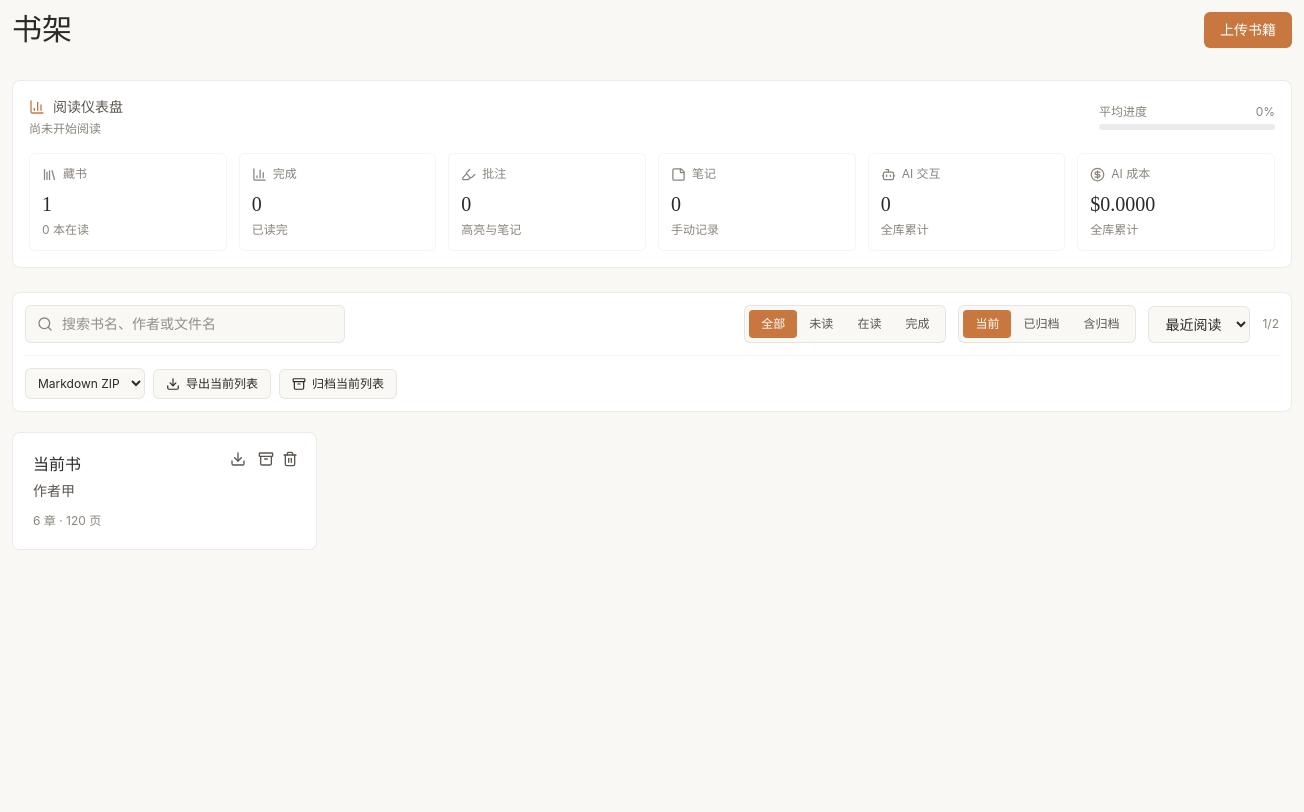
Test: BookList › guards a single book restore from duplicate clicks and preserves the archived filter on failure
This screenshot has width=1304, height=812.
Click the button "已归档": (1041, 324) [1011,310,1071,338]
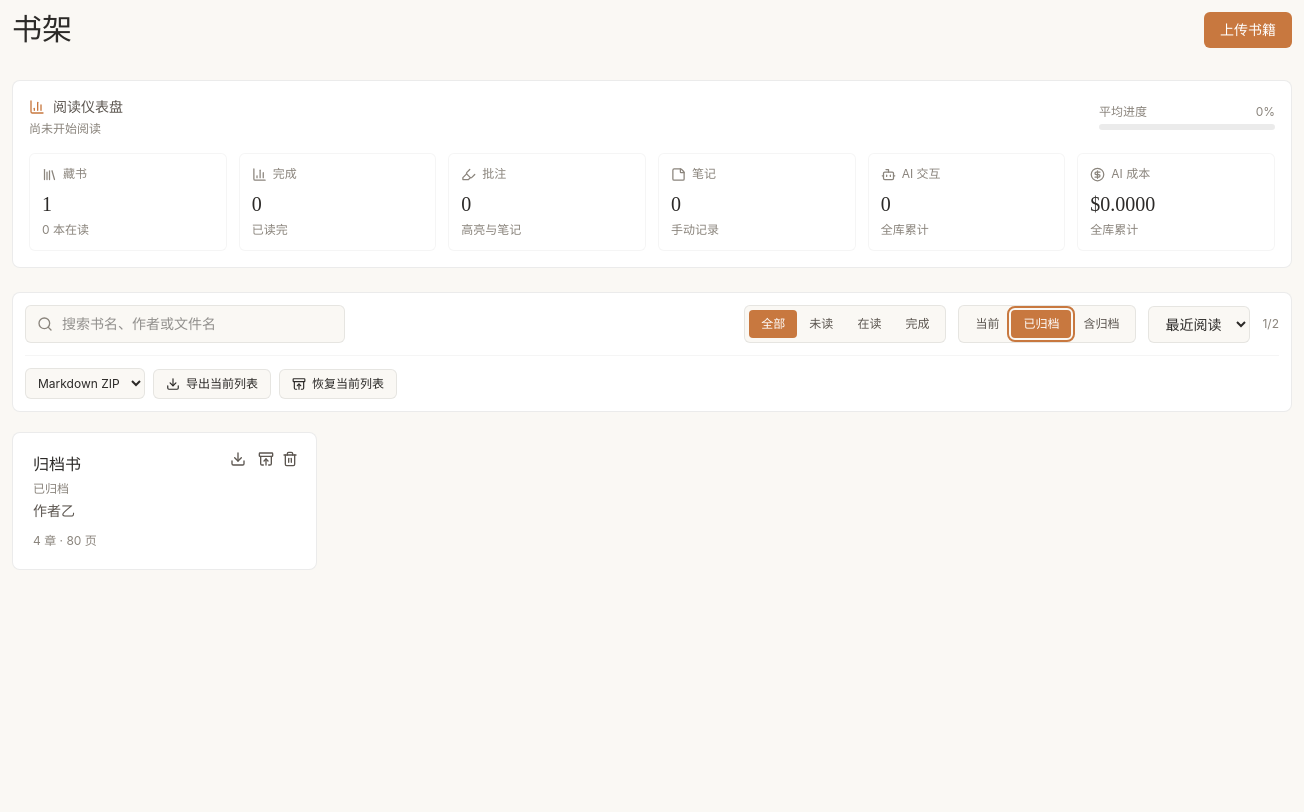
Double-click the button named "恢复书籍": (266, 459) [252,445,280,473]
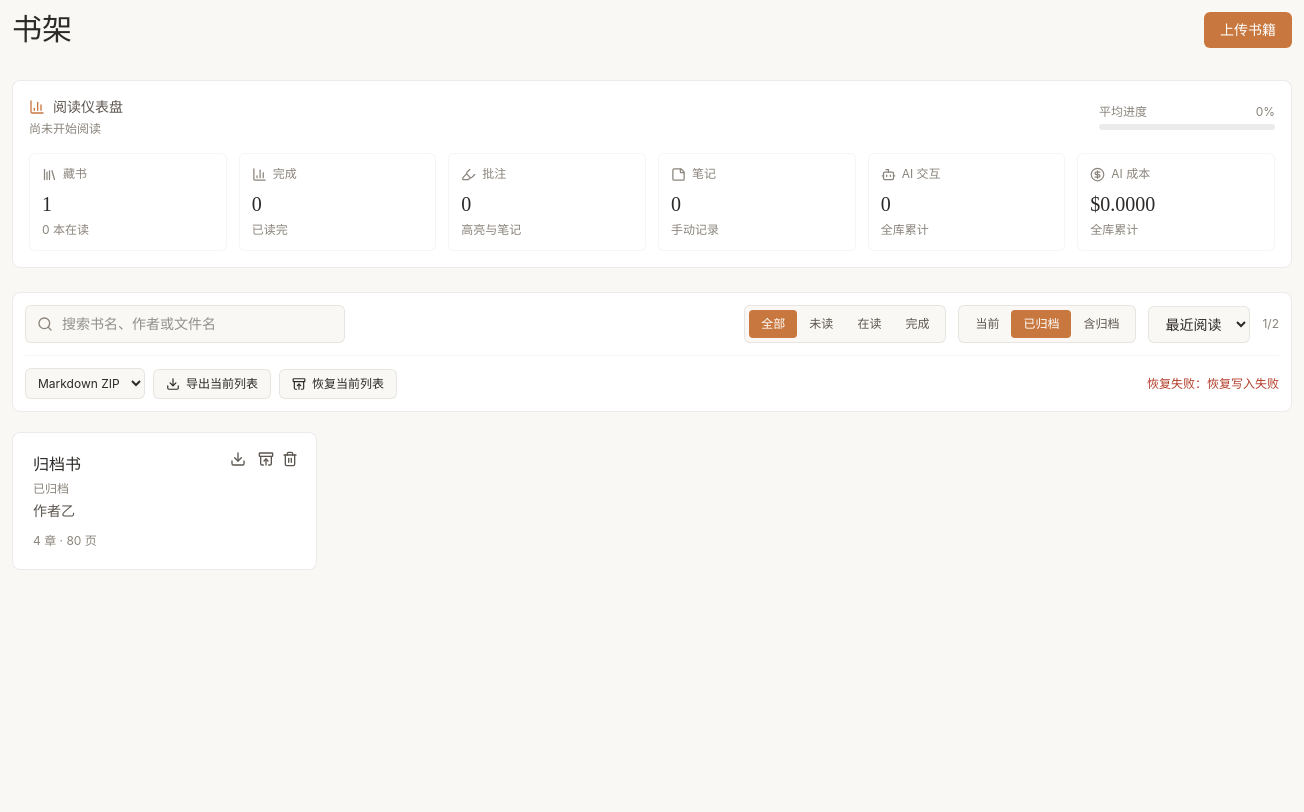
Expected: the message "1/2" is shown, [1262,316,1279,332]
Now the text "归档书" is shown, box [33,456,81,473]
Now the message "恢复失败：恢复写入失败" is shown, box [1147,376,1279,392]
